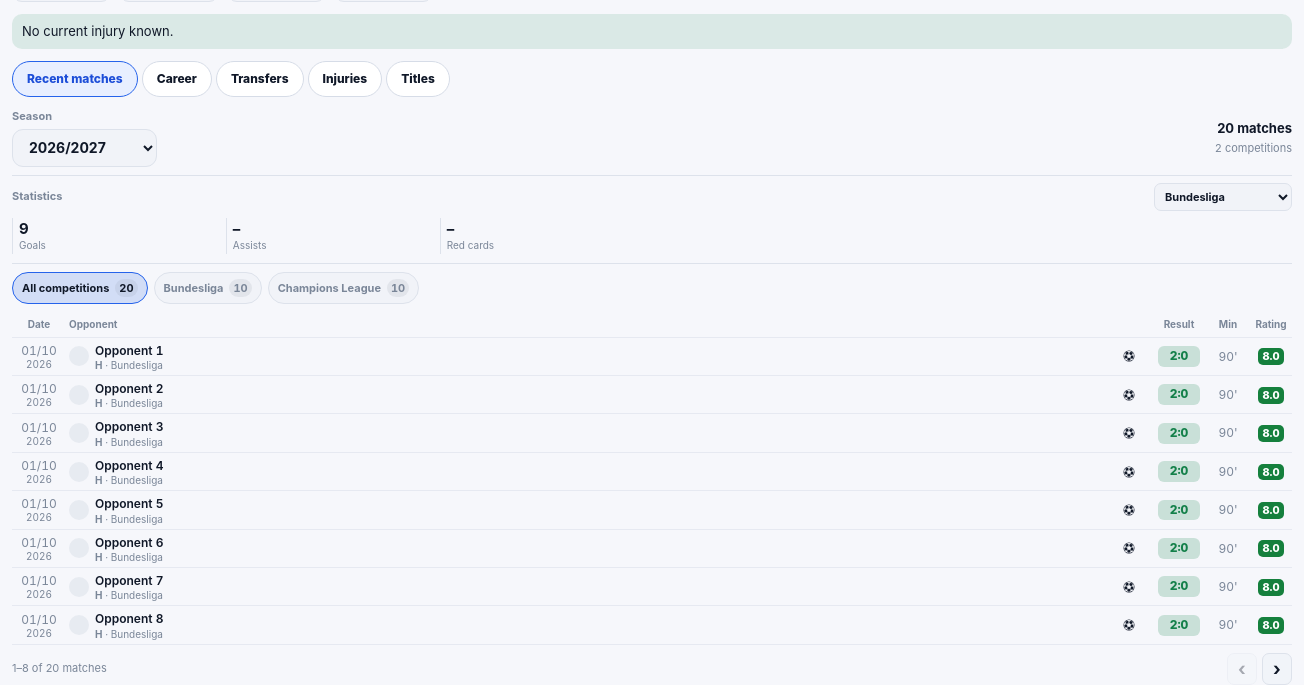
Scenario: player profile seasons › pages long season lists eight games at a time and resets on competition and season changes
(page scrolled)
Expected: the text "20 matches" is shown, [1215,119,1292,138]
Expected: the text "1–8 of 20 matches" is shown, [12,661,107,677]
Click the button named "Next matches": (1277, 669) [1262,653,1292,684]
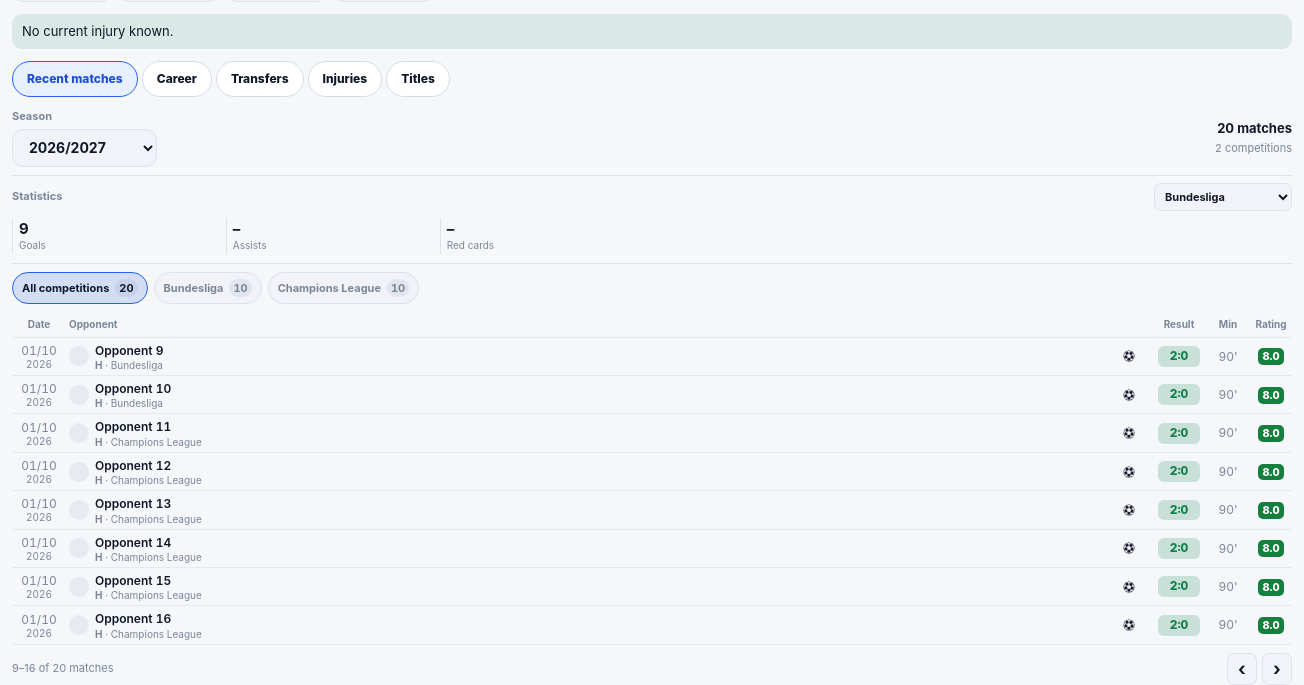
Result: the text "Opponent 9" is shown at [95,342,164,359]
Result: the text "9–16 of 20 matches" is shown at [12,661,114,677]
Click the button "Champions League 10": (343, 288) [268,272,419,304]
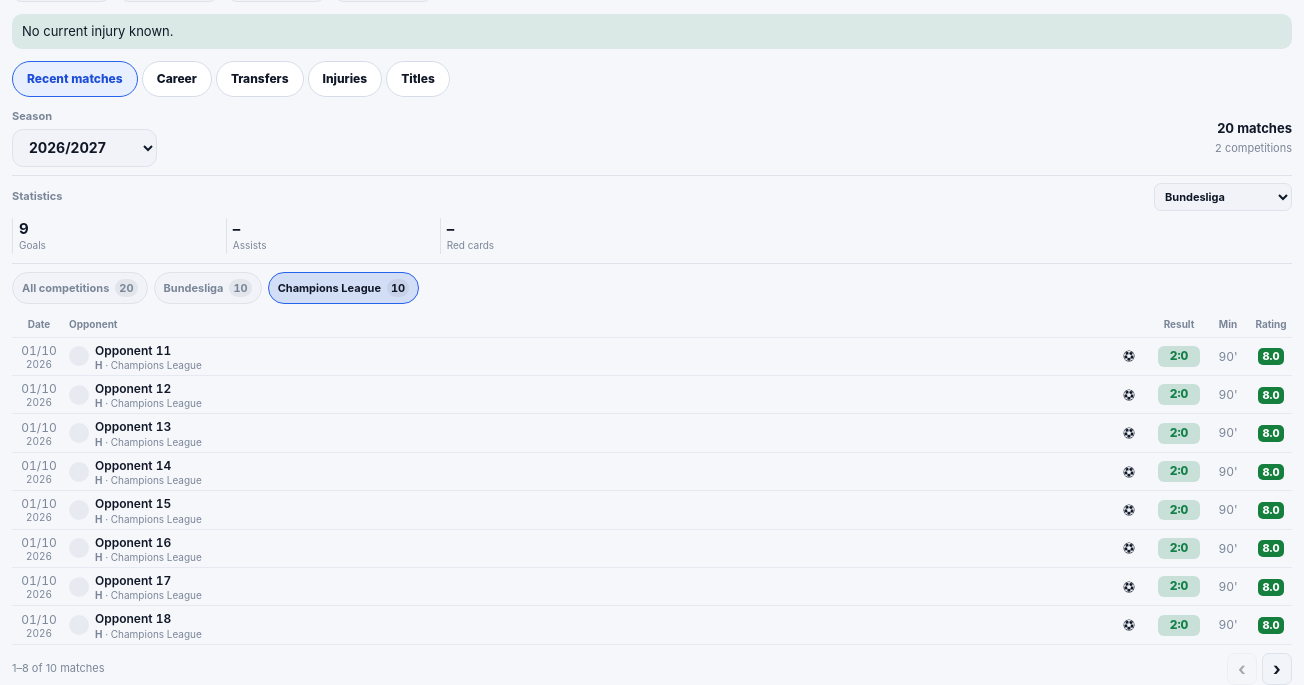
Result: the text "1–8 of 10 matches" is shown at [12,661,104,677]
Result: the button named "Previous matches" is disabled at [1227,653,1257,684]
Click the button named "Next matches": (1277, 669) [1262,653,1292,684]
(page scrolled)
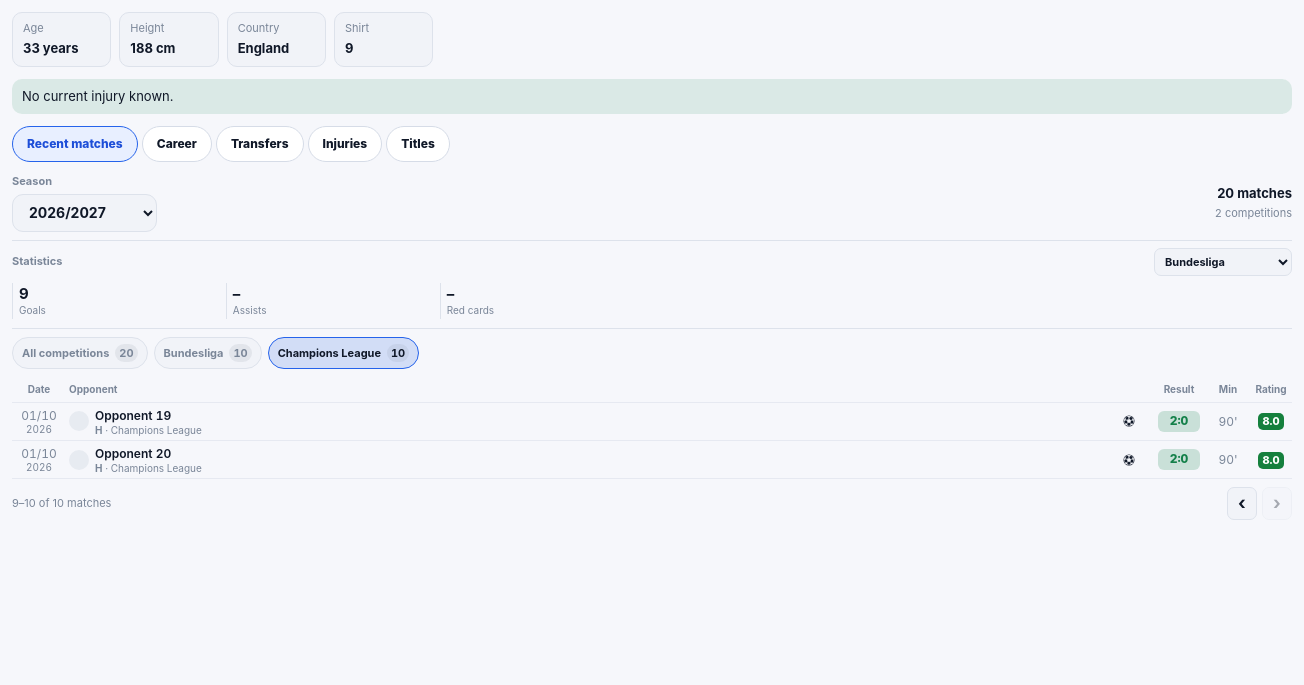
Result: the text "9–10 of 10 matches" is shown at [12,496,111,512]
Select "2025/2026" in the dropdown labelled "Season": (84, 213) [12,194,157,232]
(page scrolled)
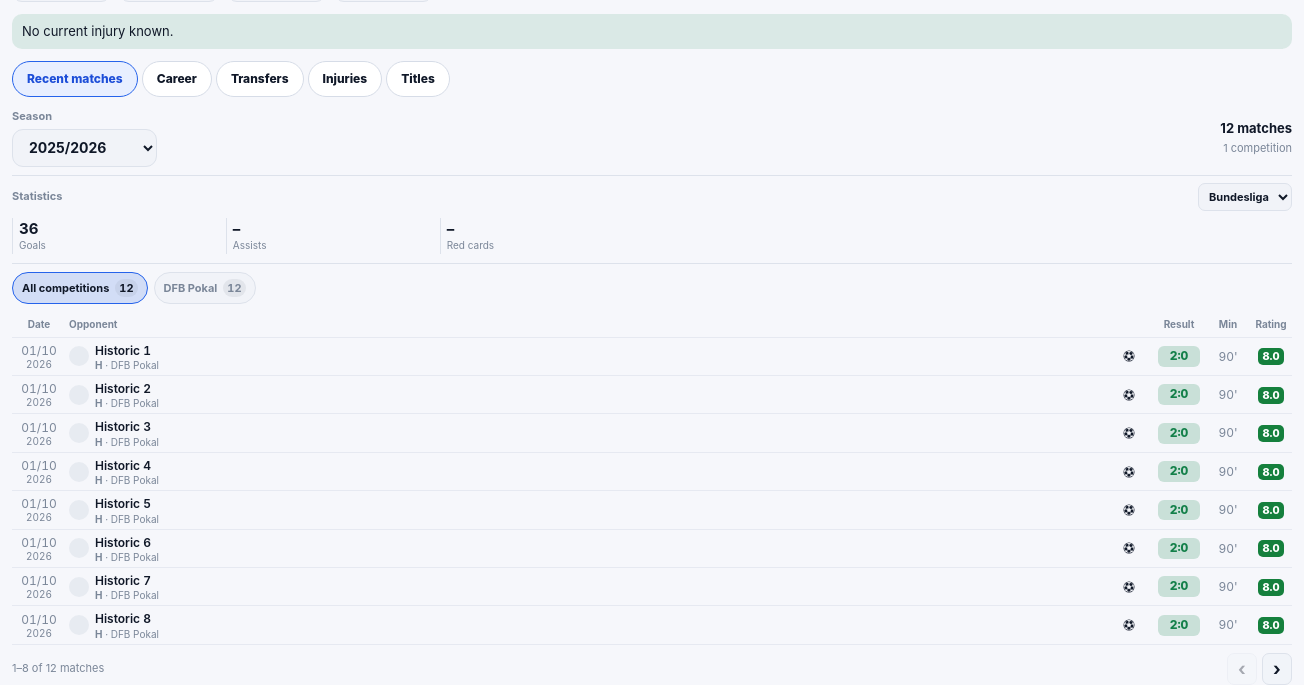
Result: the text "Historic 1" is shown at [95,342,159,359]
Result: the text "1–8 of 12 matches" is shown at [12,661,104,677]
Result: the text "Opponent 19" is gone
